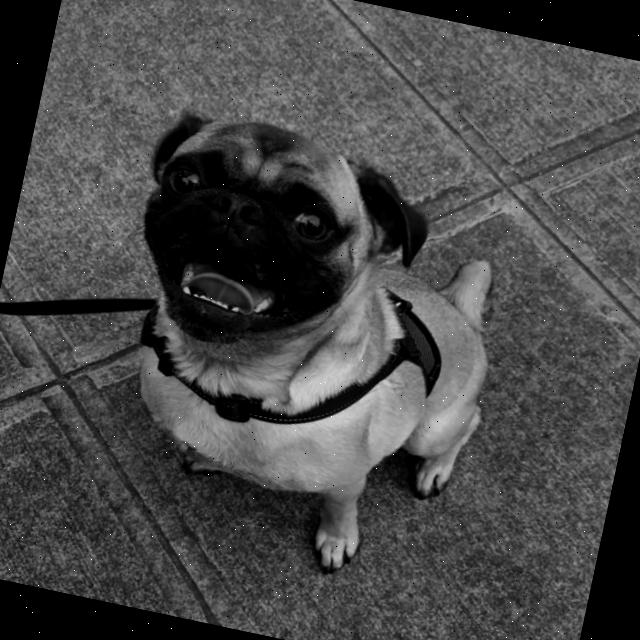pug_dog: (98, 90, 453, 399)
